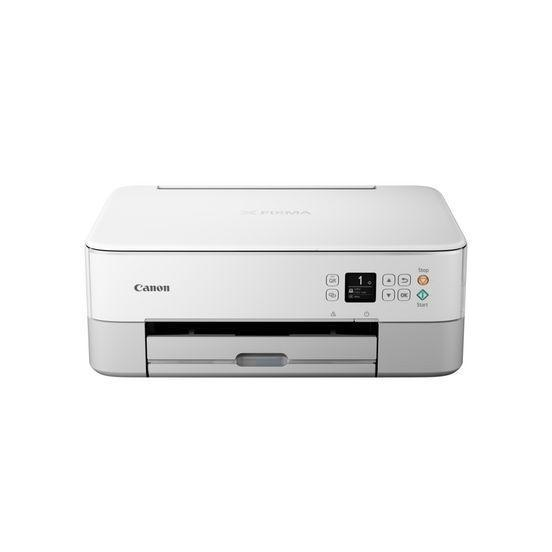Printer: (84, 184, 466, 378)
